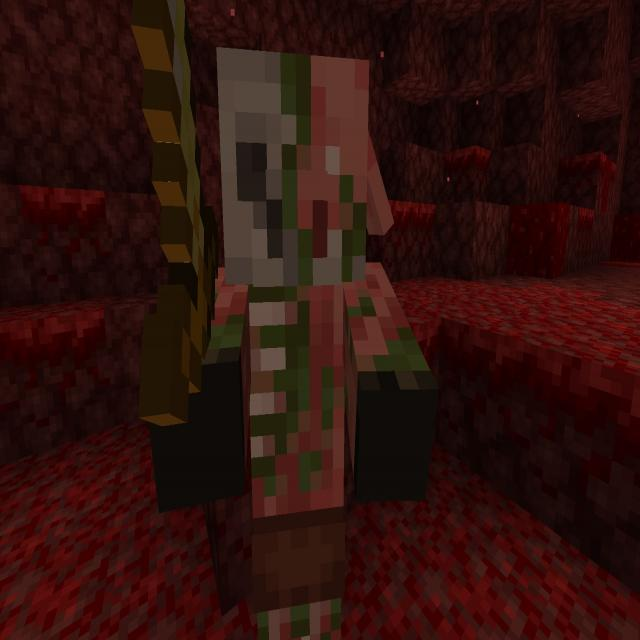Zombified Piglin: (131, 1, 436, 637)
